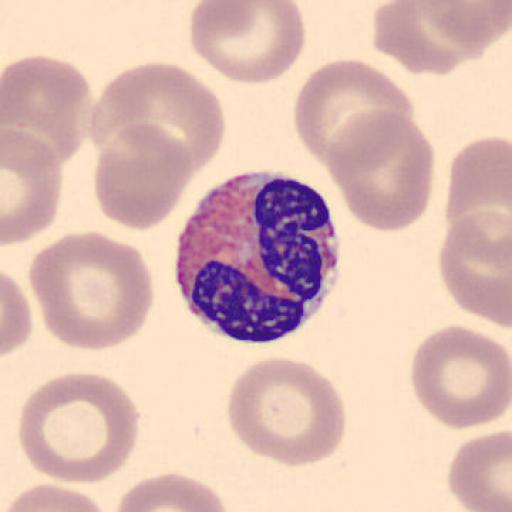RBC: (90, 61, 226, 177), (29, 229, 156, 352), (322, 106, 436, 234), (17, 371, 141, 487), (225, 356, 348, 468), (293, 57, 415, 169), (92, 121, 194, 232), (410, 323, 512, 432), (189, 0, 307, 86), (2, 54, 93, 165), (438, 211, 512, 329), (370, 0, 484, 76), (445, 135, 512, 251), (2, 126, 62, 246), (448, 430, 512, 512), (112, 469, 228, 512), (420, 1, 512, 46), (4, 482, 110, 512), (1, 271, 33, 358), (424, 0, 506, 24)
WBC: (171, 171, 344, 345)
